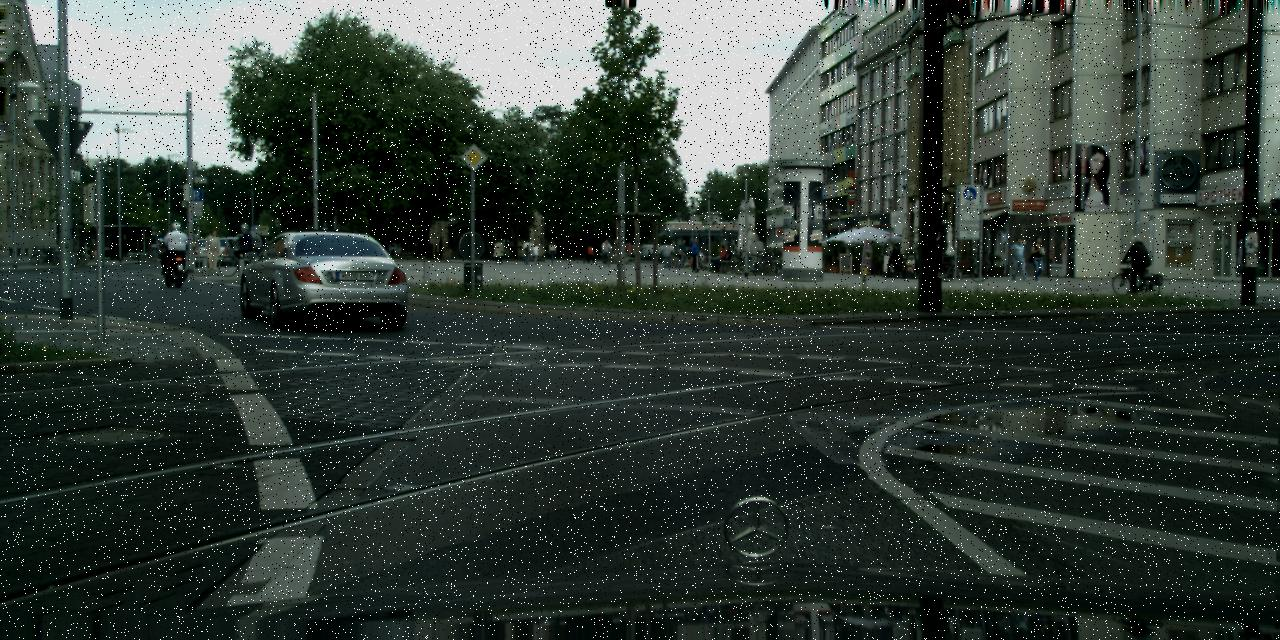ped: (164, 221, 185, 273), (1126, 234, 1146, 287), (235, 222, 254, 270), (1010, 238, 1028, 282), (1029, 236, 1046, 280), (204, 229, 222, 270), (882, 241, 898, 278), (688, 237, 702, 272), (678, 238, 688, 267), (546, 239, 557, 265), (493, 238, 503, 265), (522, 239, 532, 264), (601, 238, 611, 262), (530, 243, 540, 264), (90, 238, 98, 259), (587, 243, 594, 263), (582, 246, 588, 262)
